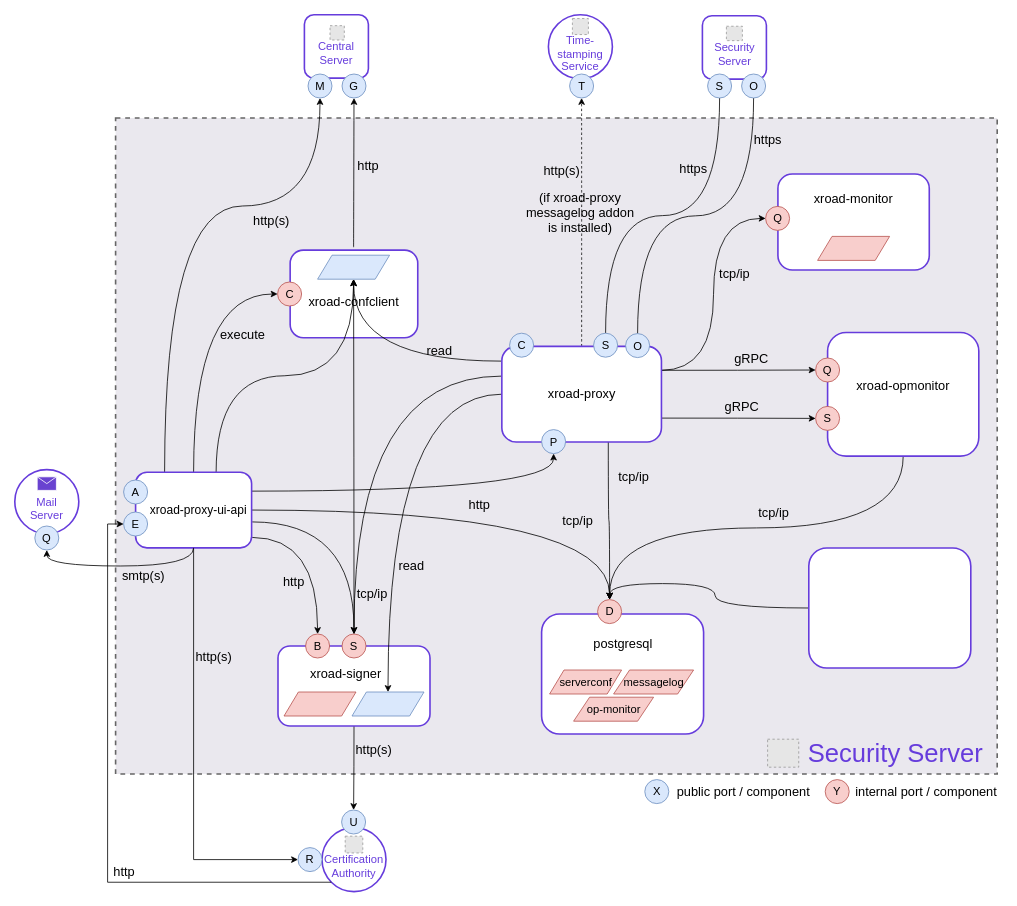
The diagram is 1017 pixels wide and 906 high, and some of its shapes have lost their labels. Grey dashed boxes stand in for pictures. Here are the shapes that lost their labels. From the top down, the centre of each, then its label:
At pixel 353 266: "global conf".
At pixel 853 248: "sensordata".
At pixel 889 607: "xroad-addon-messagelog".
At pixel 319 703: "keystore".
At pixel 387 703: "keyconf".
